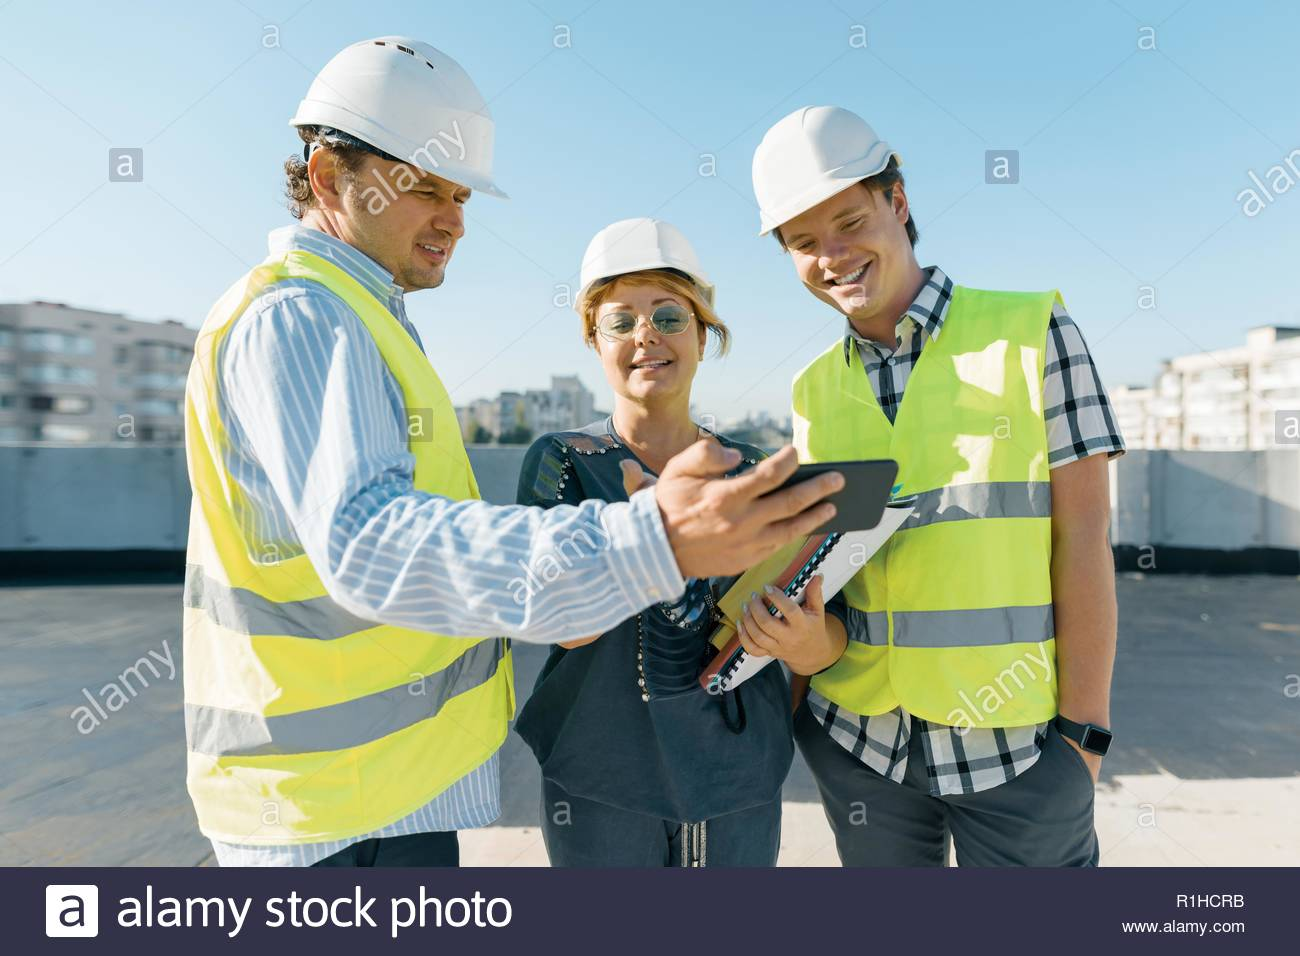casco: (288, 33, 511, 204), (750, 103, 903, 238), (573, 215, 718, 318)
